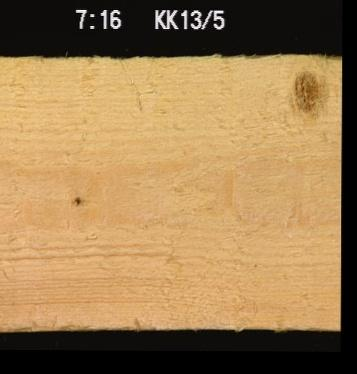small_knot: (67, 190, 84, 208)
sound_knot: (289, 67, 322, 113)
